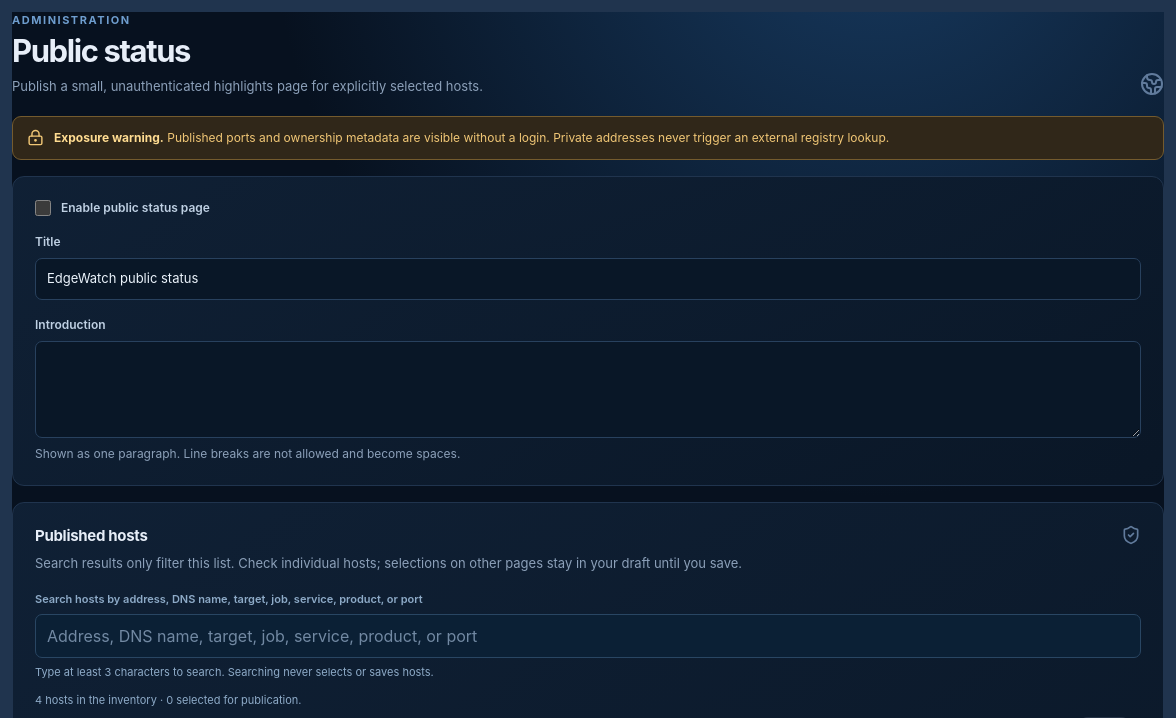
Test: public dashboard pages › discards an edited draft on request and follows the server again
This screenshot has width=1176, height=718.
Click the checkbox labelled "Enable public status page" at (43, 208), box [35,200,51,216]
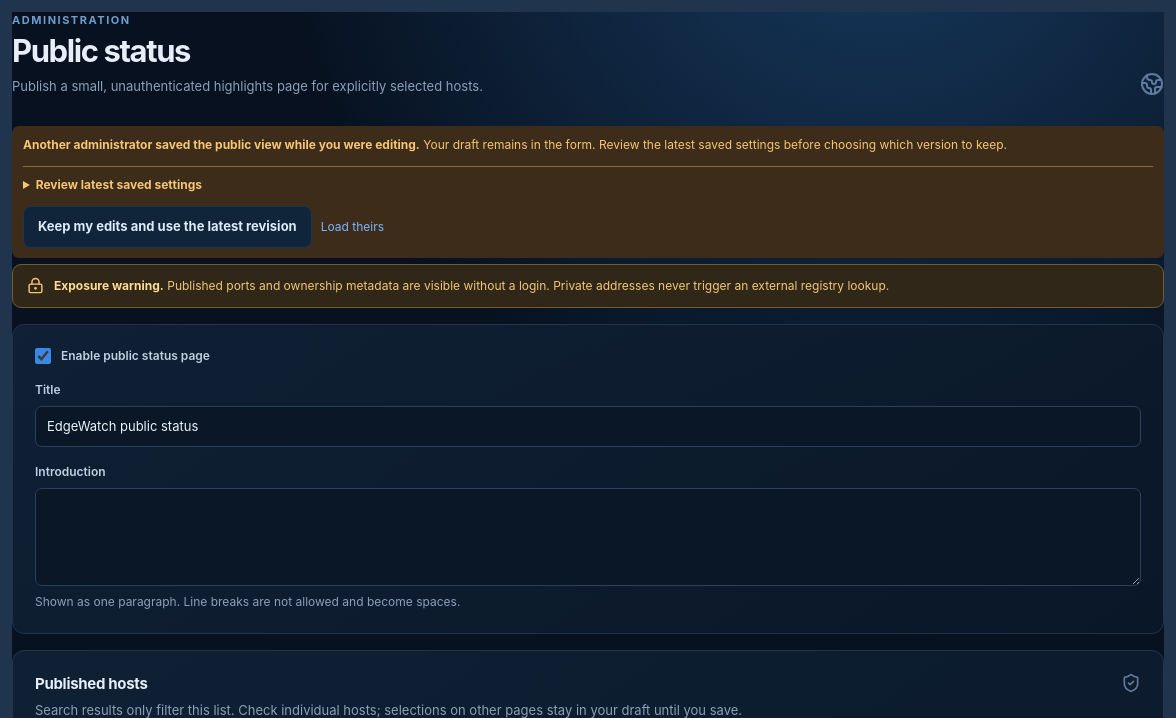
Check: the button "Load theirs" is shown
Click the button "Load theirs" at (352, 227), box [321,218,384,236]
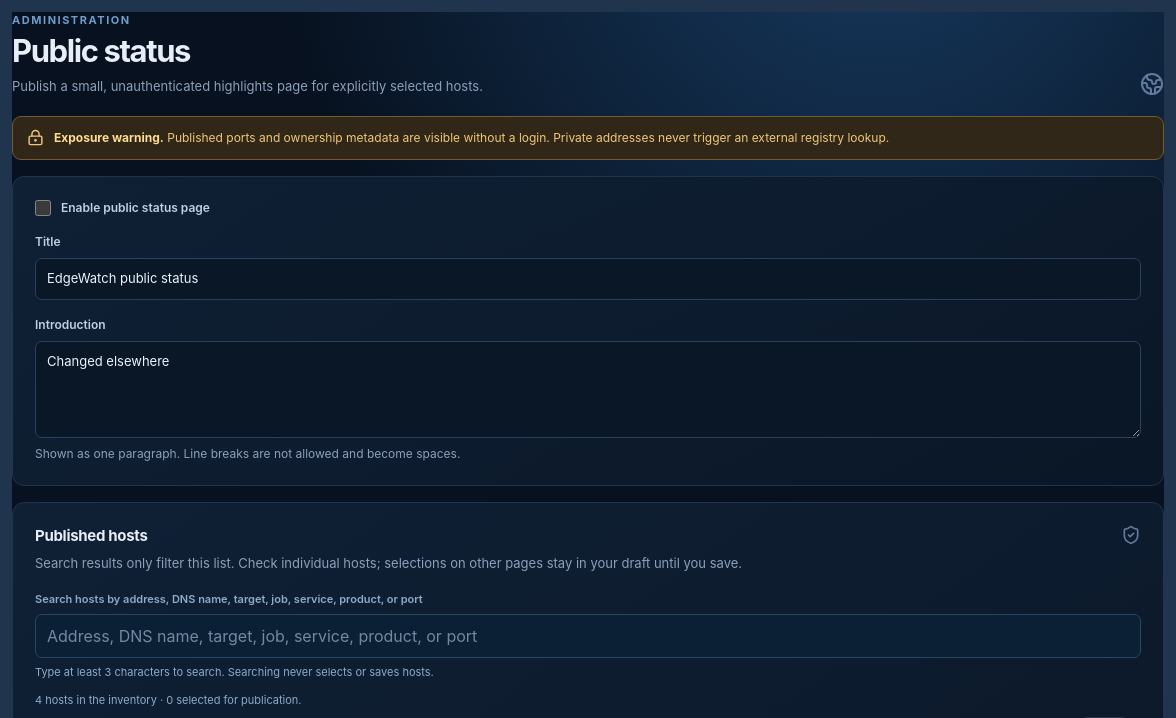
Check: the checkbox labelled "Enable public status page" is not checked, box [35,200,51,216]
Check: the text box holds "Changed elsewhere", box [35,341,1141,438]
Check: the text "Another administrator saved the public view while you were editing." is gone
